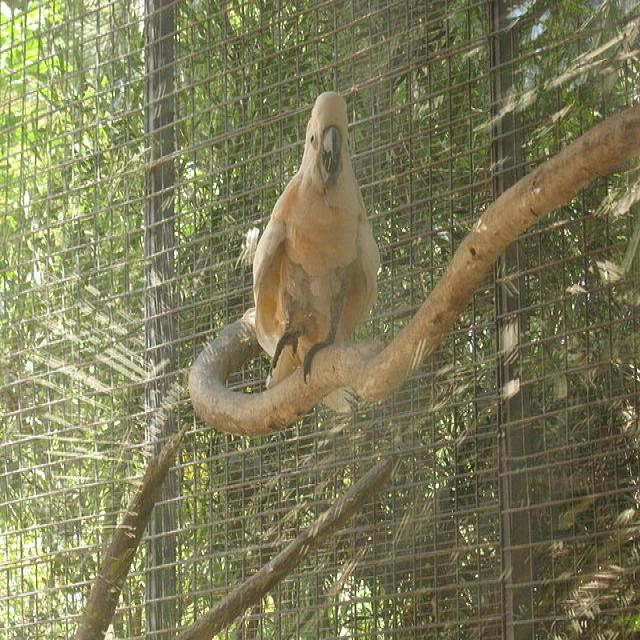Kakatua Putih: (230, 67, 391, 412)
